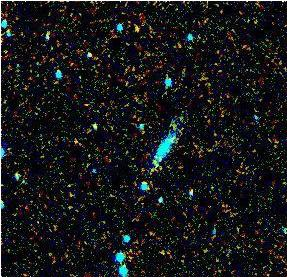star: (122, 16, 152, 46)
